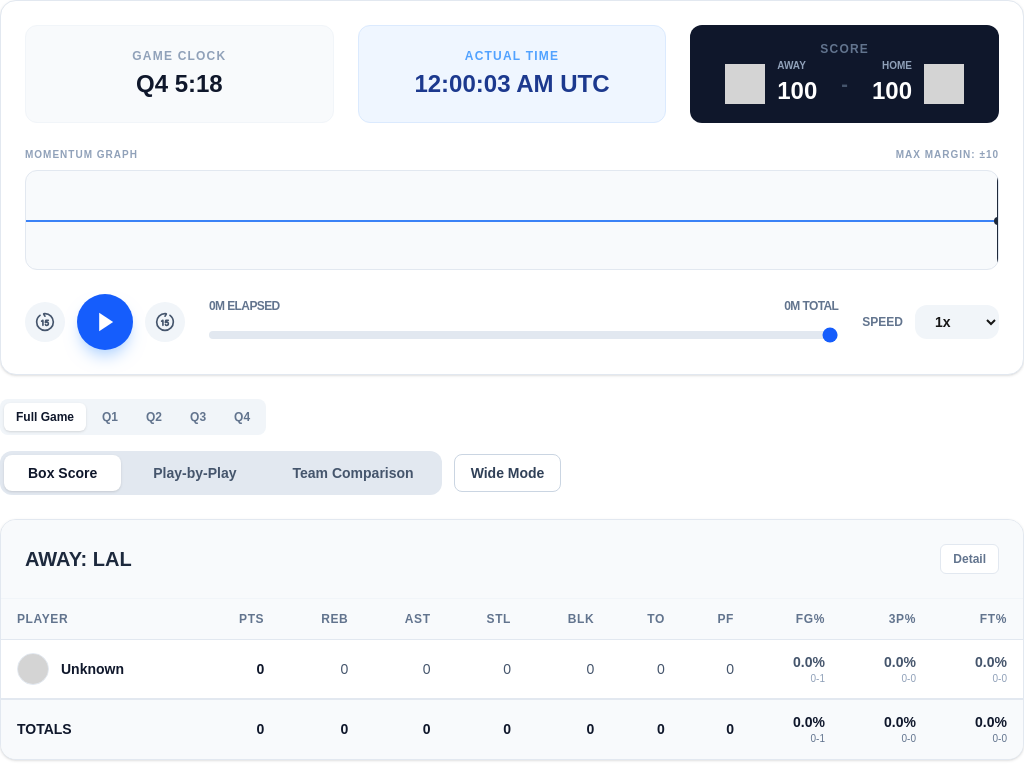
it: RewindViewer Sorting › sorts actions by time (period/clock) correctly, not just actionNumber
The image size is (1024, 768).
Note: Switch to PBP tab
What coordinates should you click on to do the following:
click the button "Play-by-Play"
I would click on:
 (195, 473)
Its box is [129,455,261,491].
(page scrolled)
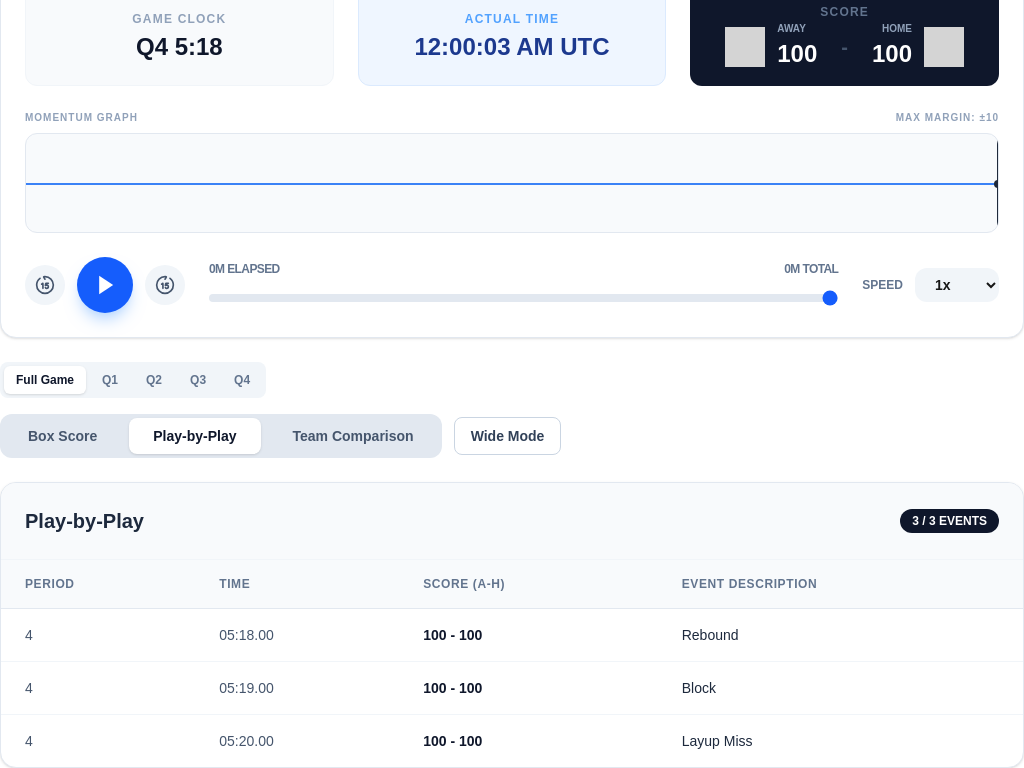
Expected: the row "4 05:18.00 100 - 100 Rebound" is shown, [1,608,1023,662]
Expected: the row "4 05:19.00 100 - 100 Block" is shown, [1,662,1023,714]
Expected: the row "4 05:20.00 100 - 100 Layup Miss" is shown, [1,714,1023,767]
